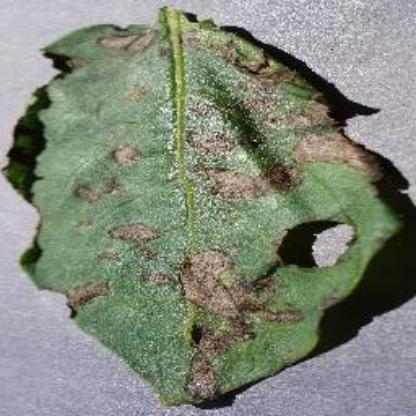Early-Blight: (2, 6, 400, 406)
